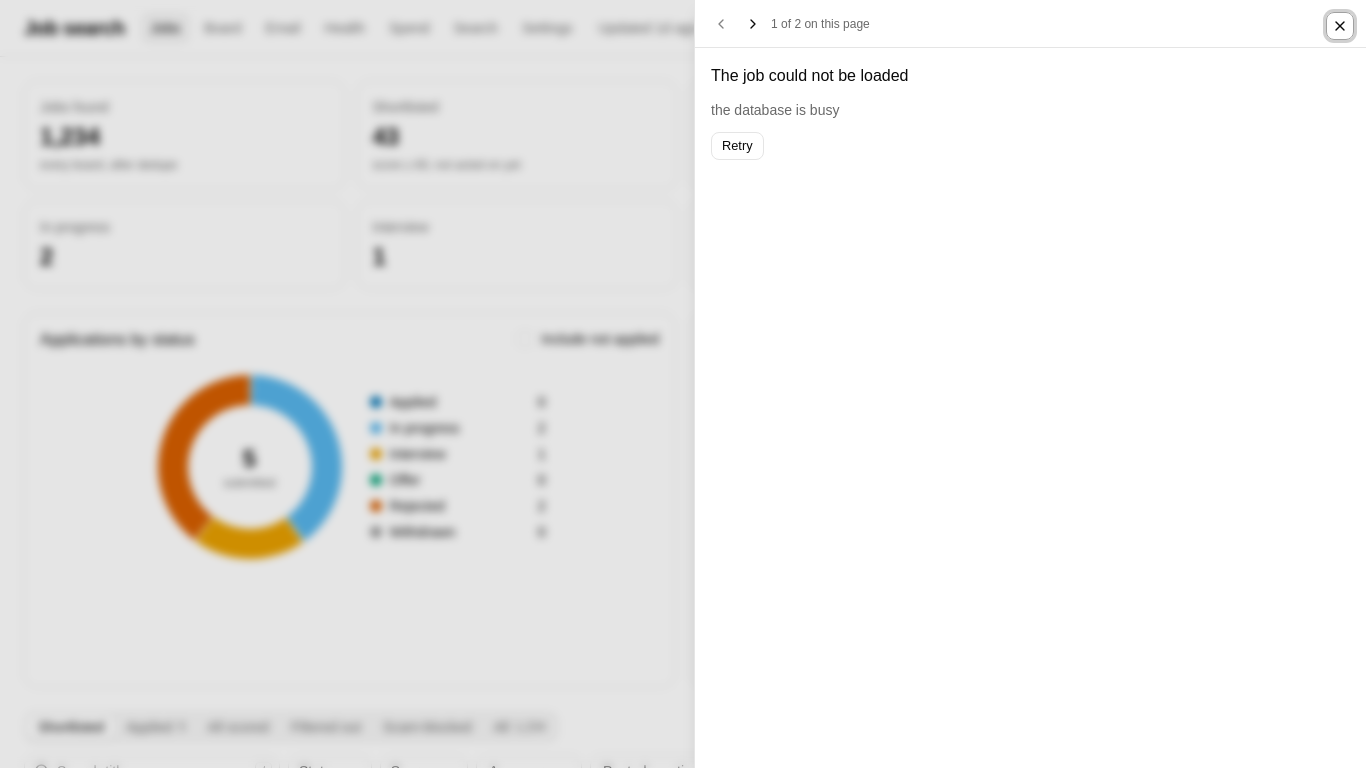
Test: JobDrawer: opening and closing › shows other errors with a retry
Expected: the text "the database is busy" is shown, x1=711 y1=102 x2=839 y2=118
Click the button "Retry" at coordinates (737, 146), box x1=711 y1=132 x2=764 y2=160
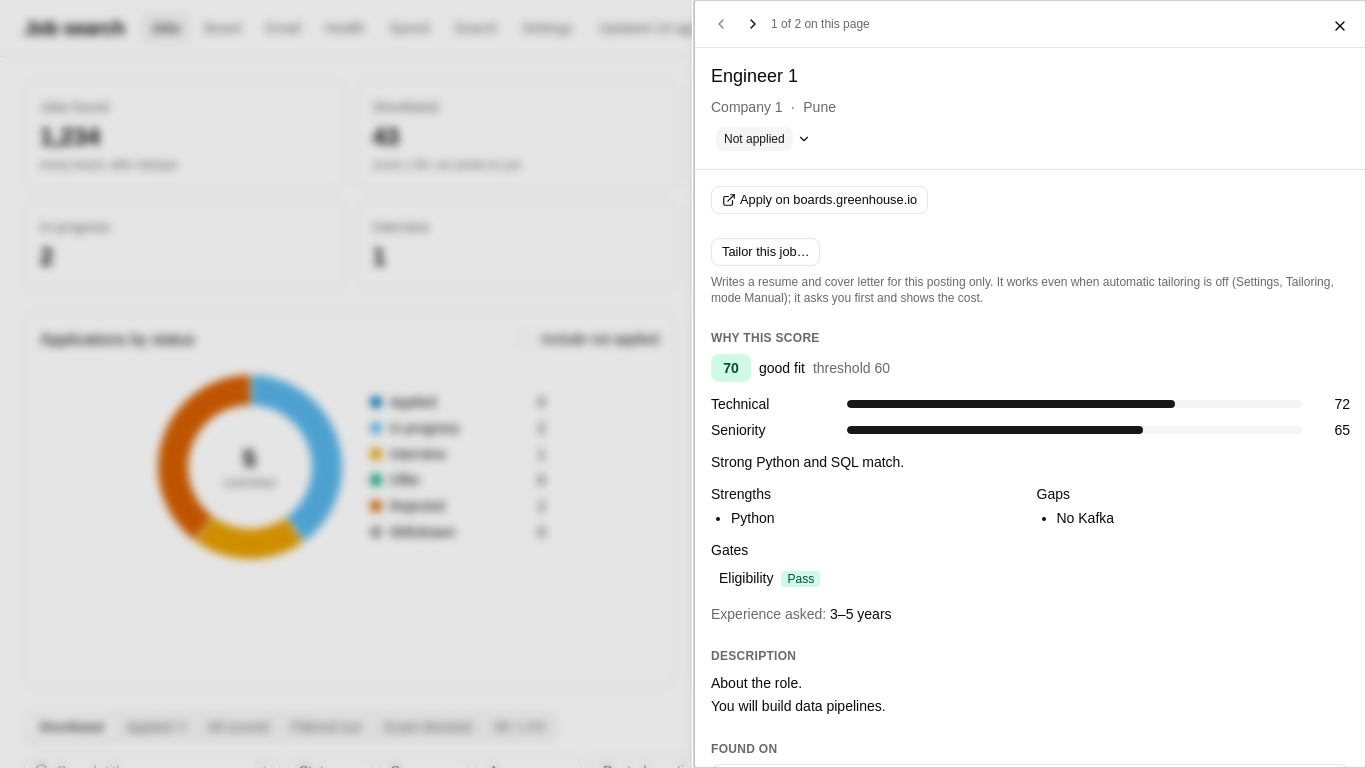
Expected: the dialog "Engineer 1" is shown, x1=694 y1=0 x2=1365 y2=767
